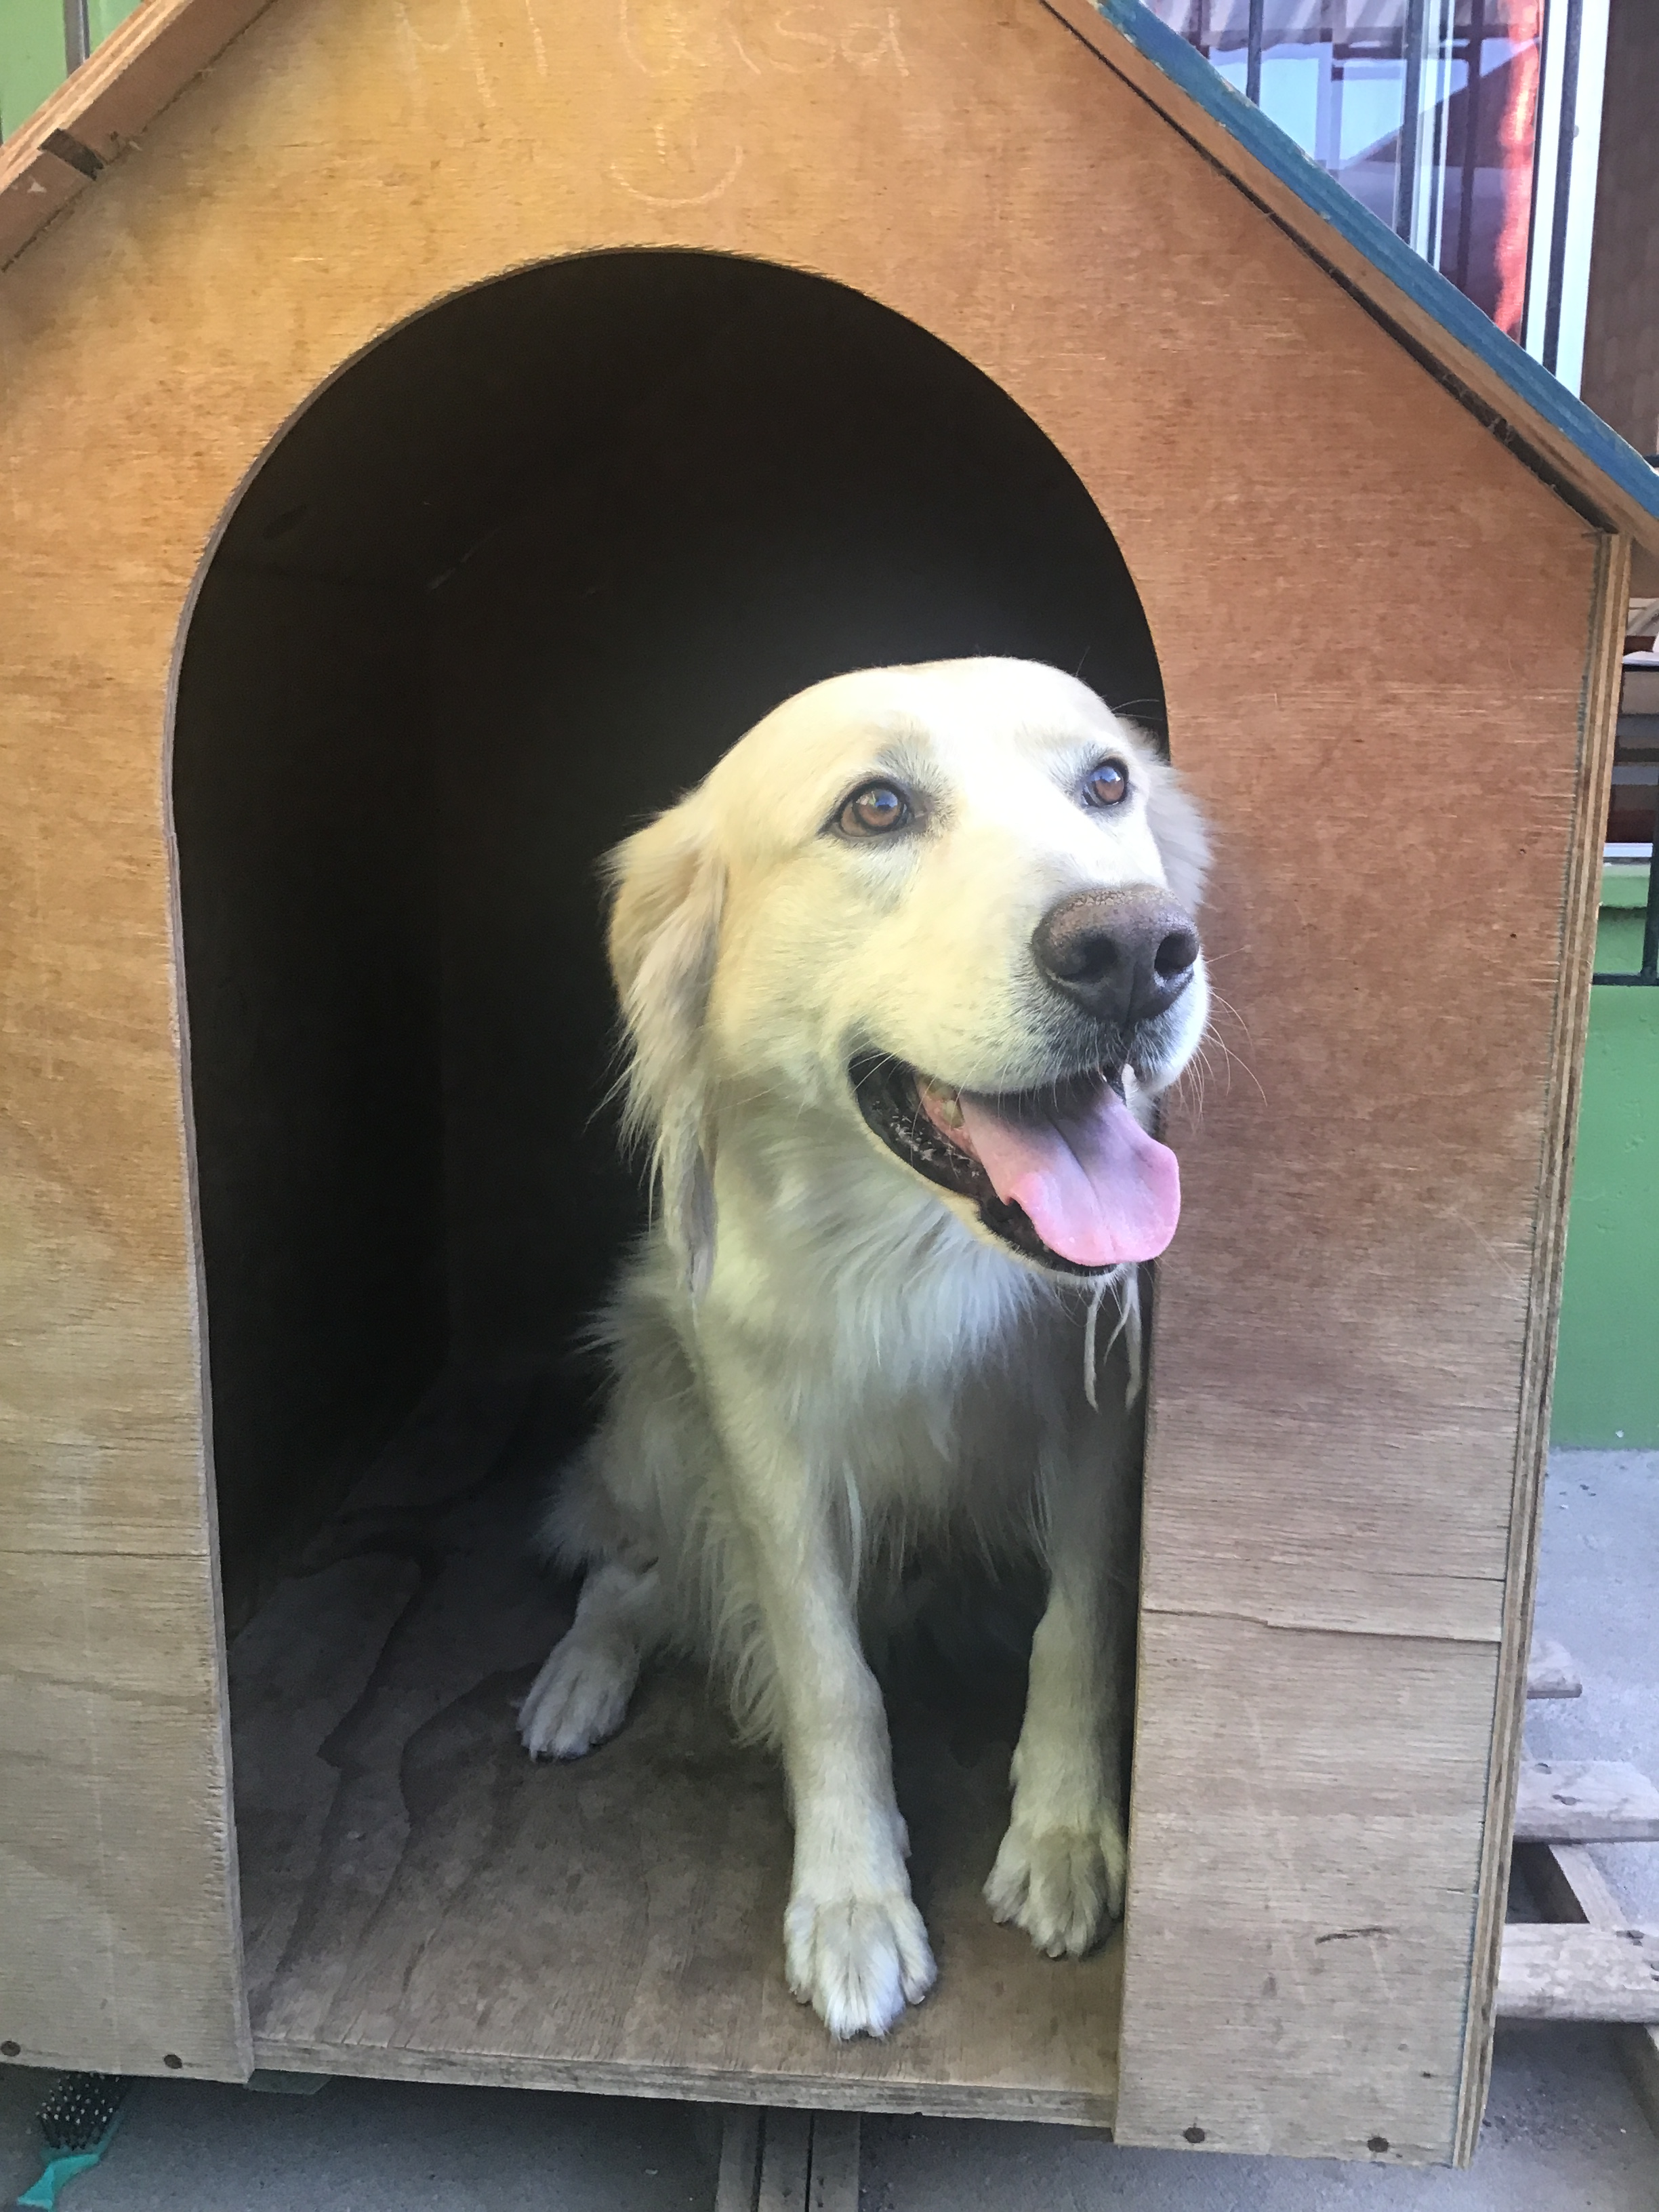maik: (512, 651, 1225, 2045)
